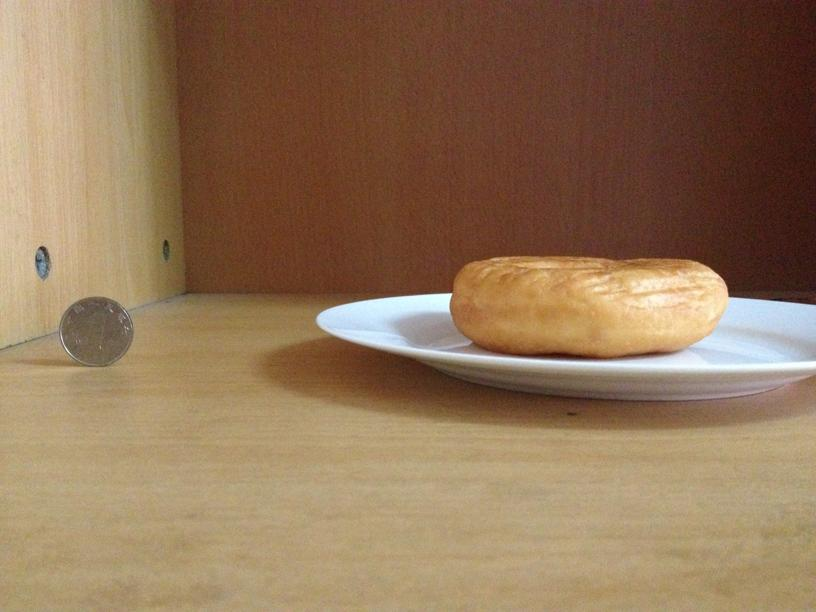coin: (59, 297, 134, 366)
doughnut: (452, 252, 724, 355)
